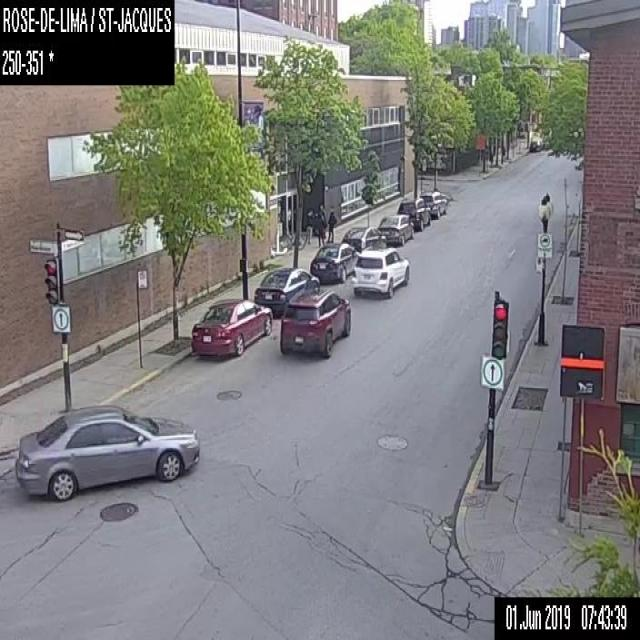construction: (475, 134, 484, 165)
pedestrian: (304, 206, 314, 242), (327, 206, 336, 244), (315, 211, 325, 244), (319, 203, 326, 228)
vehicle: (14, 402, 200, 502), (189, 292, 272, 358), (279, 286, 350, 360), (252, 268, 321, 313), (350, 246, 410, 294), (310, 243, 360, 284), (341, 226, 389, 251), (377, 212, 415, 243), (396, 198, 432, 230), (419, 187, 447, 215), (529, 137, 541, 150)
